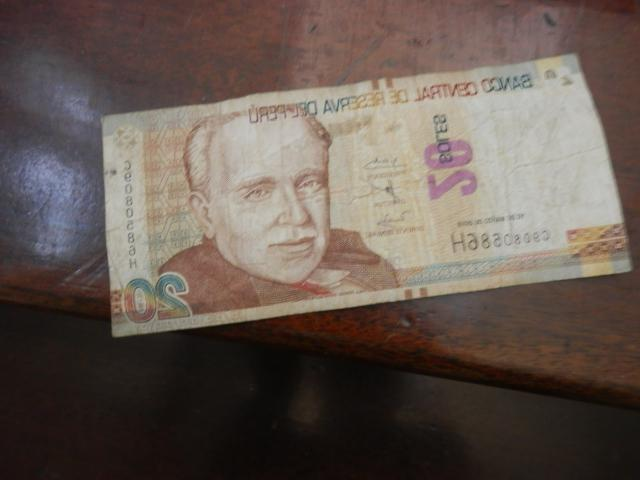B20: (102, 53, 631, 339)
